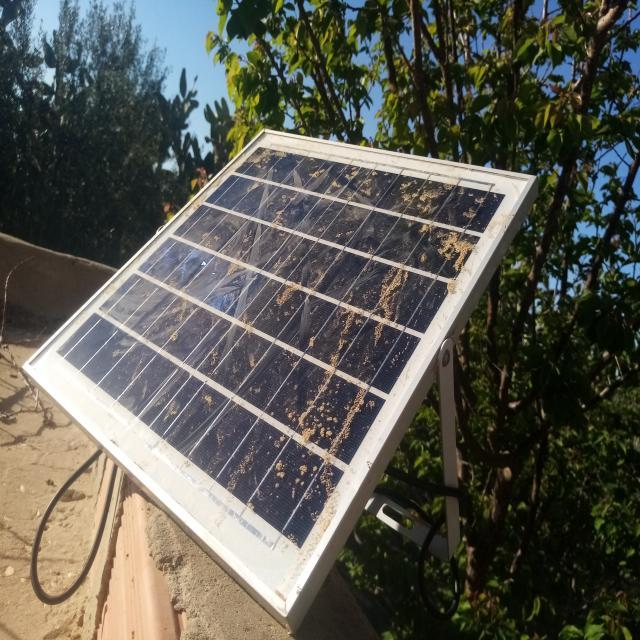faulty: (25, 133, 532, 613)
